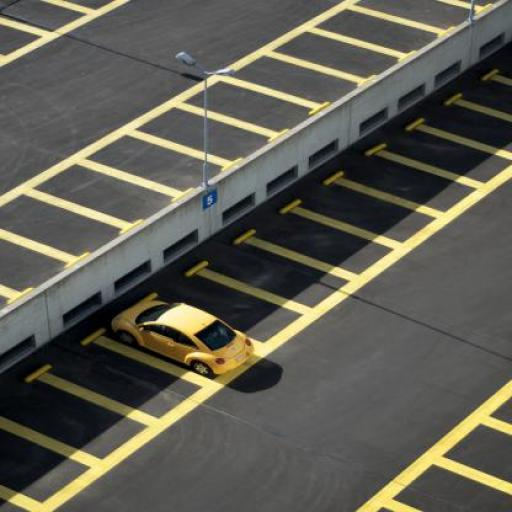street light: (176, 52, 236, 188)
